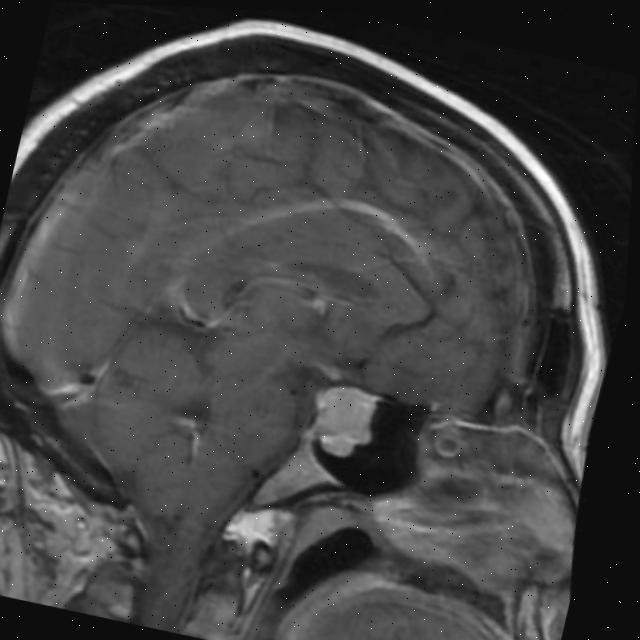Pituitary: (304, 378, 386, 465)
